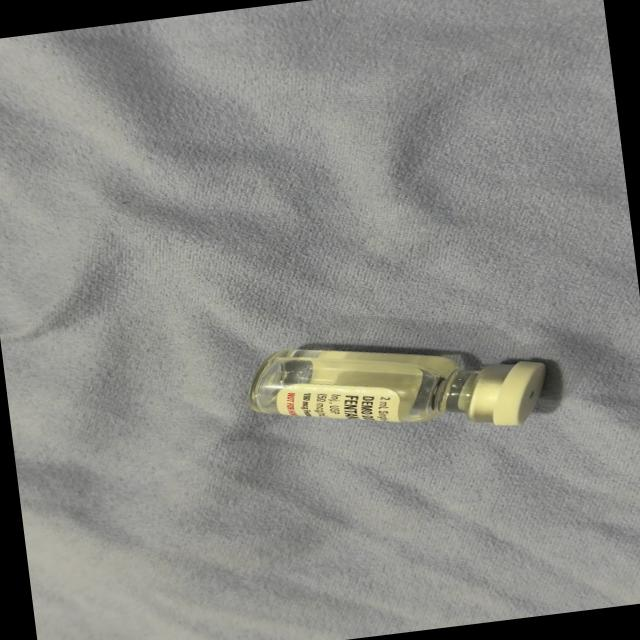fentanl_citrat: (248, 318, 548, 454)
